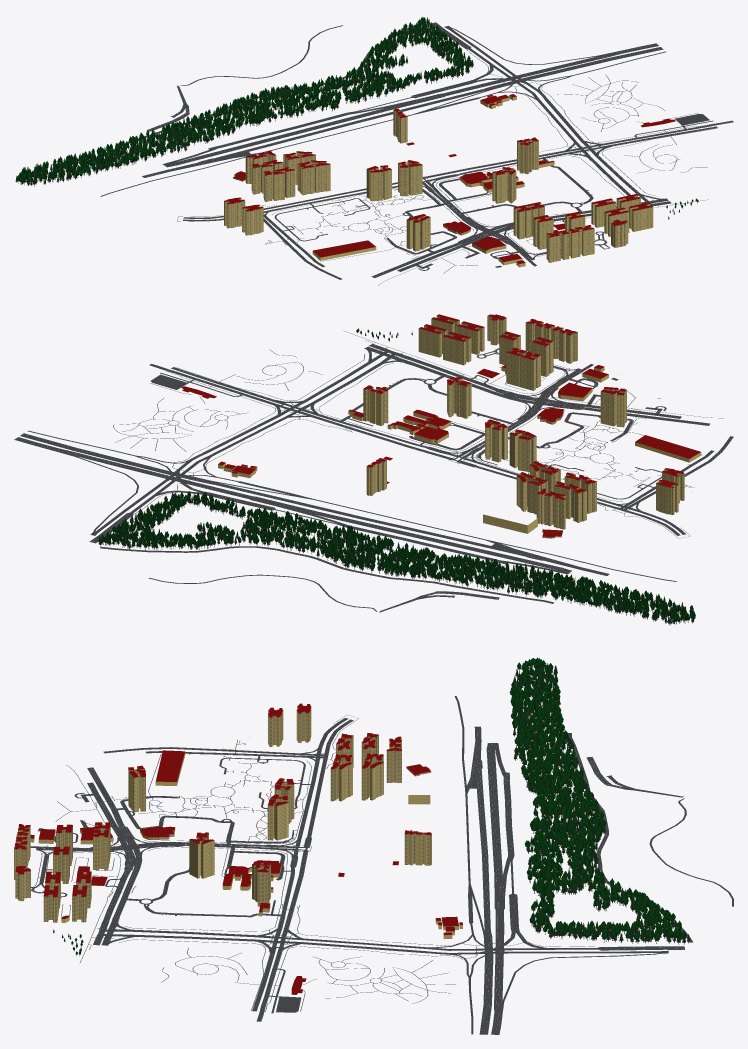
The model's file is osm3d.glb.
3 views of the same model, one above another, from view 1: azimuth 30°, elevation 25°; view 2: azimuth 150°, elevation 25°; view 3: azimuth 270°, elevation 25° (orthographic). The views are drawn at different scales.
Visible parts, largest first — view 1: ASPHALT, Plaster002, TextureAtlas 463e9326, Windows, RoofingTiles010; view 2: ASPHALT, Plaster002, TextureAtlas 463e9326, Windows, RoofingTiles010; view 3: ASPHALT, TextureAtlas 463e9326, Plaster002, Windows, RoofingTiles010.
Boxes of the visible parts, x1,y1,x2,y2 form: ASPHALT: (100, 22, 733, 279); Plaster002: (224, 95, 673, 267); TextureAtlas 463e9326: (15, 16, 698, 219); Windows: (224, 111, 652, 262); RoofingTiles010: (224, 94, 675, 263); ASPHALT: (14, 344, 733, 612); Plaster002: (184, 316, 701, 538); TextureAtlas 463e9326: (98, 328, 695, 624); Windows: (363, 316, 684, 538); RoofingTiles010: (181, 314, 700, 537); ASPHALT: (30, 696, 733, 1034); TextureAtlas 463e9326: (53, 657, 690, 955); Plaster002: (14, 704, 462, 994); Windows: (14, 708, 430, 922); RoofingTiles010: (14, 703, 462, 994).
Bounding box in the file's own units: 1486 × 65.06 × 1224.
Materials: 18 (18 with a texture image).
